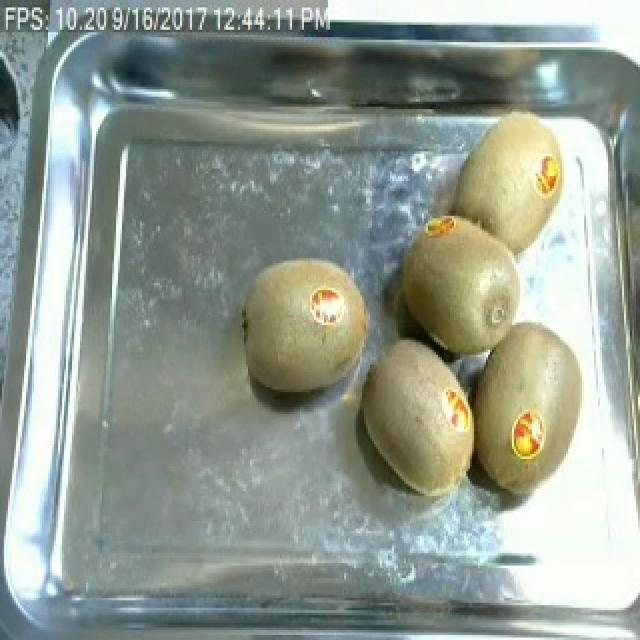Fruit: (352, 328, 488, 508), (394, 208, 534, 368), (236, 248, 380, 399), (448, 107, 580, 263), (498, 315, 598, 471)
